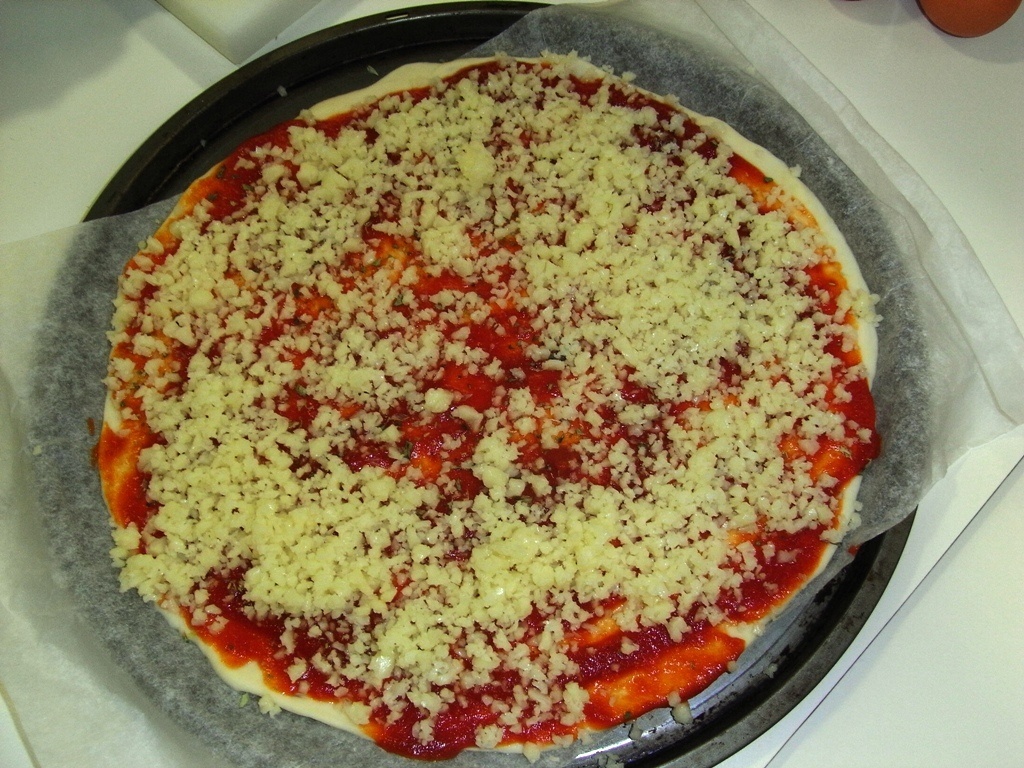Pizza: (92, 52, 876, 764)
